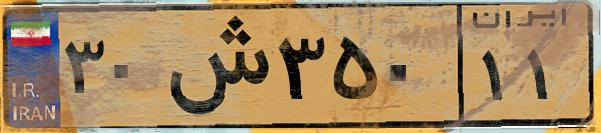0: (385, 28, 445, 110), (110, 28, 158, 98)
1: (475, 38, 525, 113), (525, 38, 570, 115)
3: (270, 28, 330, 110), (57, 26, 110, 100)
5: (330, 28, 385, 110)
ش: (158, 12, 270, 120)
